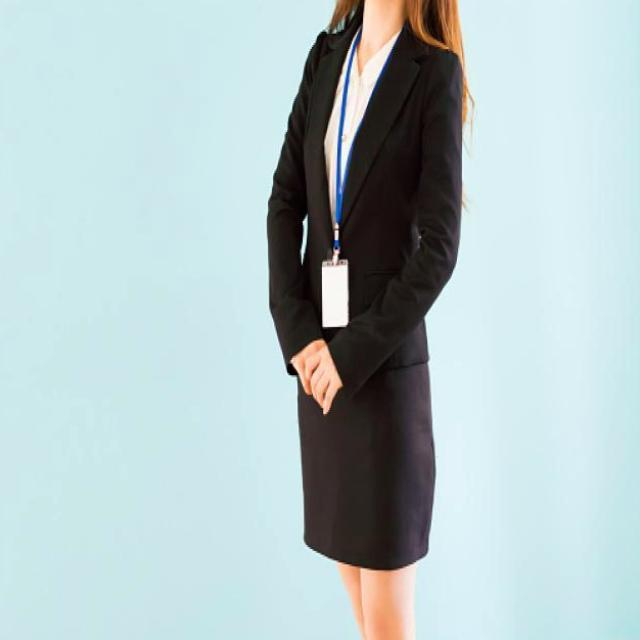ID_card: (306, 39, 399, 335)
